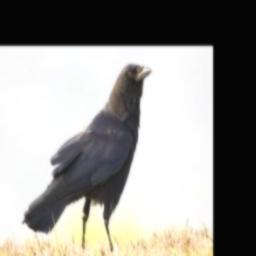Crow: (23, 61, 154, 252)
